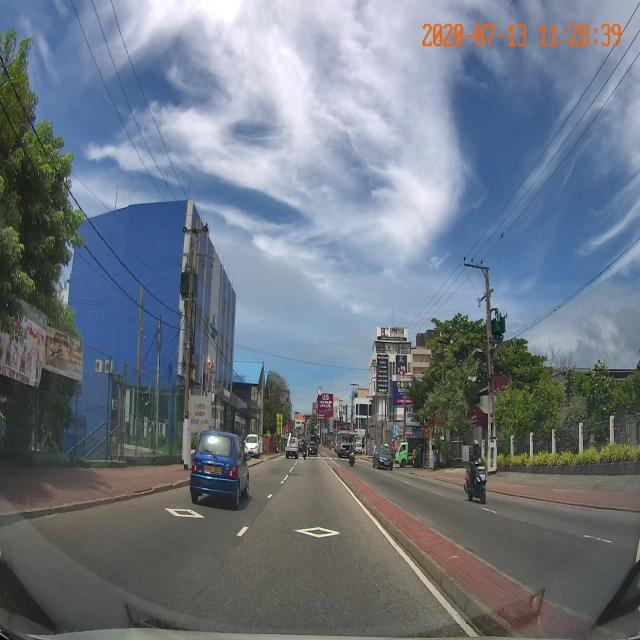diamond: (235, 522, 395, 543)
